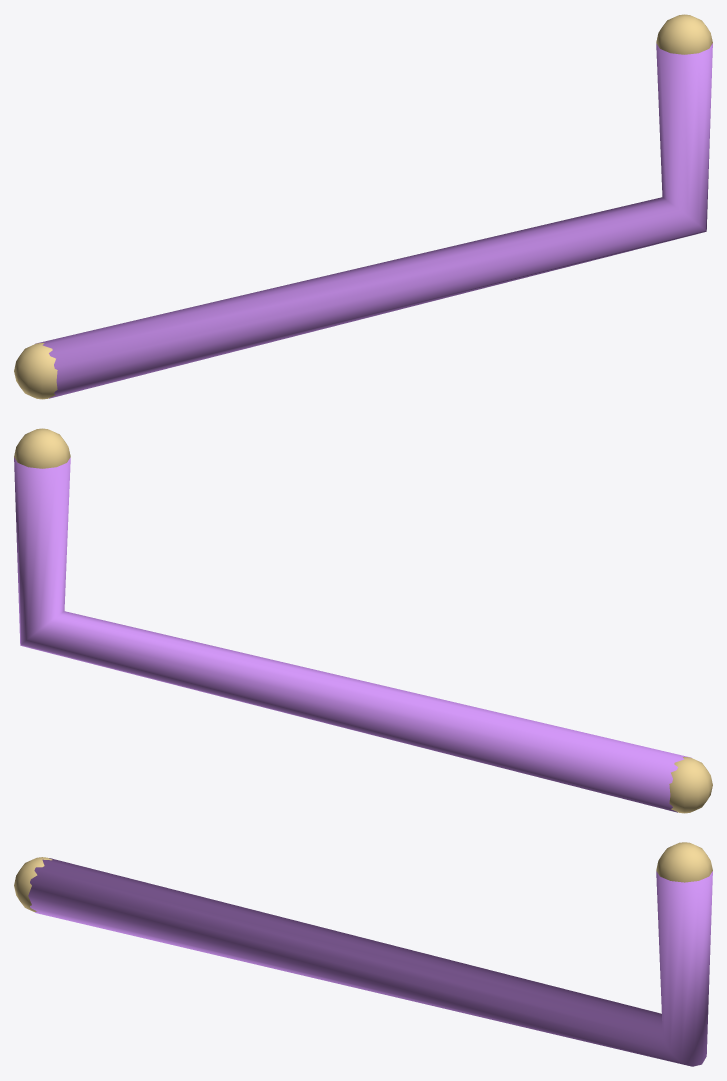
File: elbow-pin-CSdFoZFl.glb
The picture shows the model from 3 angles, top to bottom: view 1: azimuth 30°, elevation 25°; view 2: azimuth 150°, elevation 25°; view 3: azimuth 330°, elevation 25°; orthographic projection.
Visible parts, largest first — view 1: R3D_elbow-pin_Body_0, R3D_elbow-pin_Tip_0, R3D_elbow-pin_Tip_1; view 2: R3D_elbow-pin_Body_0, R3D_elbow-pin_Tip_0, R3D_elbow-pin_Tip_1; view 3: R3D_elbow-pin_Body_0, R3D_elbow-pin_Tip_1, R3D_elbow-pin_Tip_0.
Part boxes in pixels (x1=…): R3D_elbow-pin_Body_0: x1=35, y1=43, x2=712, y2=398; R3D_elbow-pin_Tip_0: x1=14, y1=342, x2=57, y2=399; R3D_elbow-pin_Tip_1: x1=656, y1=14, x2=712, y2=54; R3D_elbow-pin_Body_0: x1=14, y1=457, x2=691, y2=812; R3D_elbow-pin_Tip_0: x1=669, y1=756, x2=712, y2=813; R3D_elbow-pin_Tip_1: x1=14, y1=428, x2=70, y2=468; R3D_elbow-pin_Body_0: x1=28, y1=858, x2=712, y2=1066; R3D_elbow-pin_Tip_1: x1=656, y1=842, x2=712, y2=882; R3D_elbow-pin_Tip_0: x1=14, y1=857, x2=52, y2=911.
Size of the model in its own units: 2.53 by 0.78 by 0.18.
